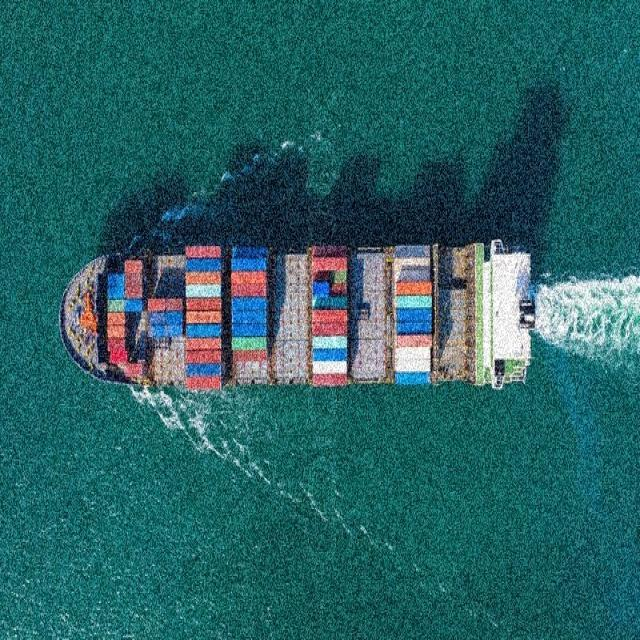ship2: (62, 241, 537, 393)
